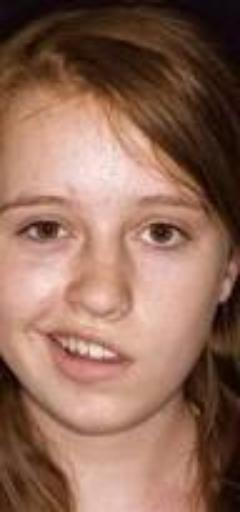left_eye: (131, 220, 194, 260)
left_lip_corner: (128, 348, 144, 371)
right_eye: (14, 216, 78, 245)
right_lip_corner: (38, 325, 59, 345)
